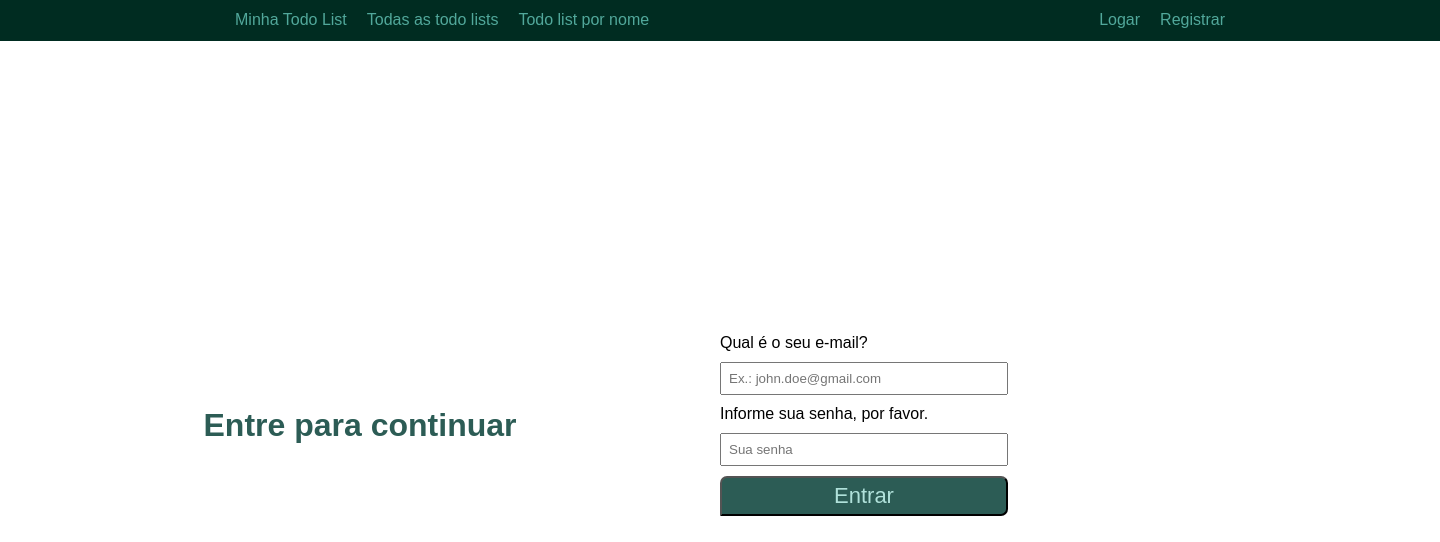
Test: Page Login › Teste se entrega erro ao entregar dados inválidos
Click the button with class "submit-login": (864, 496) 720,476 -> 1008,516
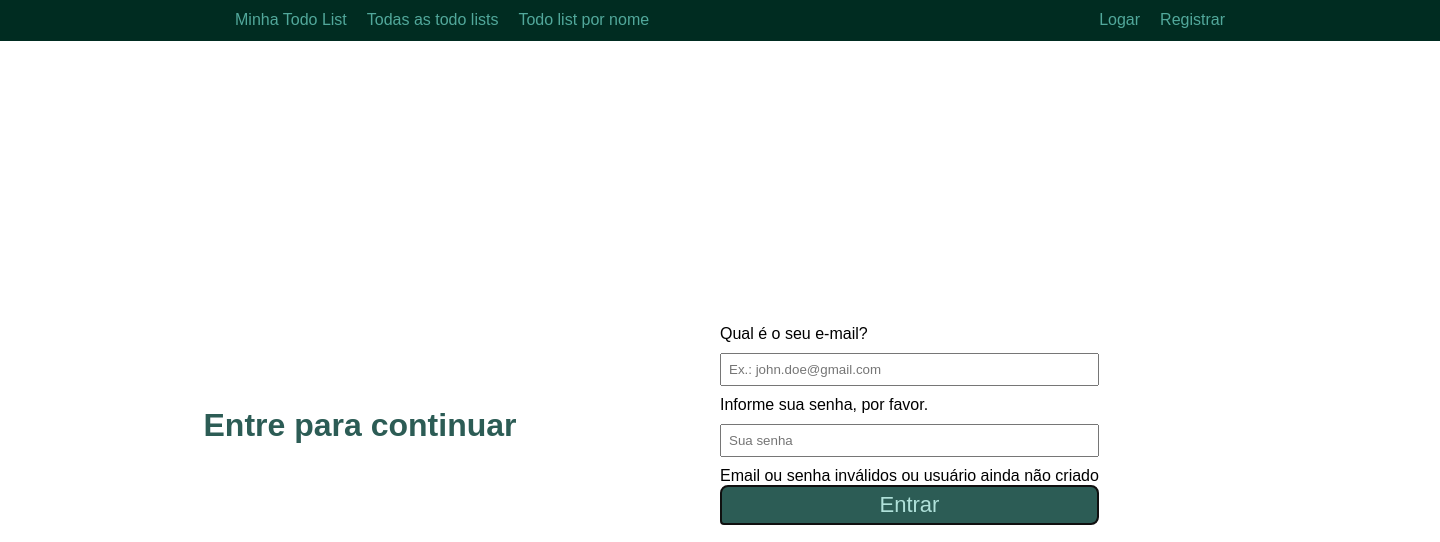
Check: the text "Email ou senha inválidos ou usuário ainda não criado" is shown, box 720,467 -> 1099,484
